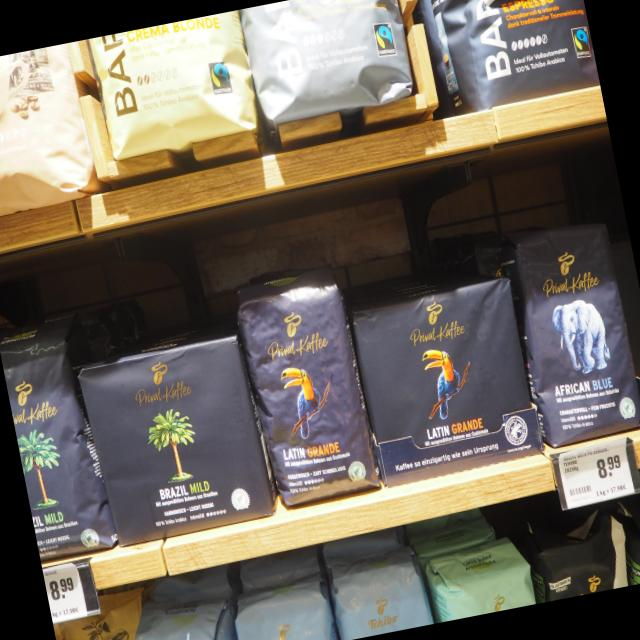AB Bohne: (503, 212, 640, 450)
BM Bohne: (0, 315, 121, 565)
BM Gemahlen: (76, 330, 278, 550)
LG Bohne: (228, 259, 382, 511)
LG Gemahlen: (345, 270, 544, 488)
